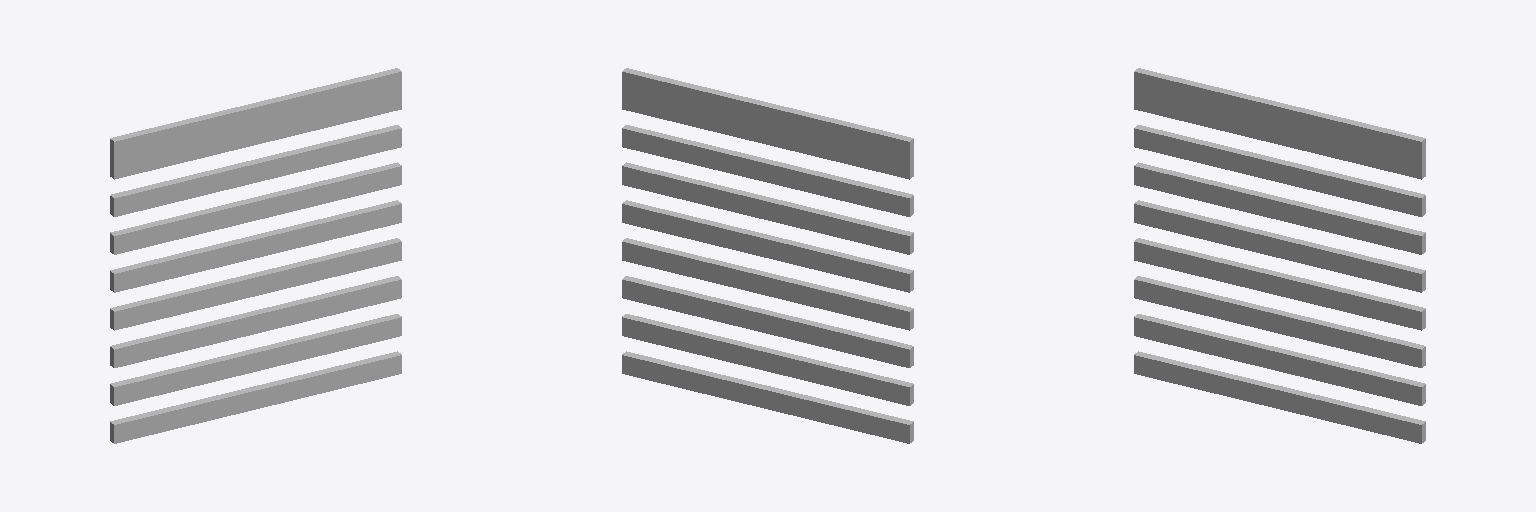
File: blinds_open.obj
3 views of the same model, side by side, from view 1: azimuth 30°, elevation 25°; view 2: azimuth 150°, elevation 25°; view 3: azimuth 330°, elevation 25° (orthographic).
Parts seen in each view (by area): view 1: blinds_open_Plane.001; view 2: blinds_open_Plane.001; view 3: blinds_open_Plane.001.
Boxes of the visible parts, x1,y1,x2,y2 form: blinds_open_Plane.001: [110, 68, 401, 443]; blinds_open_Plane.001: [622, 68, 913, 443]; blinds_open_Plane.001: [1134, 68, 1425, 443].
Size of the model in its own units: 1 by 1 by 0.0293.